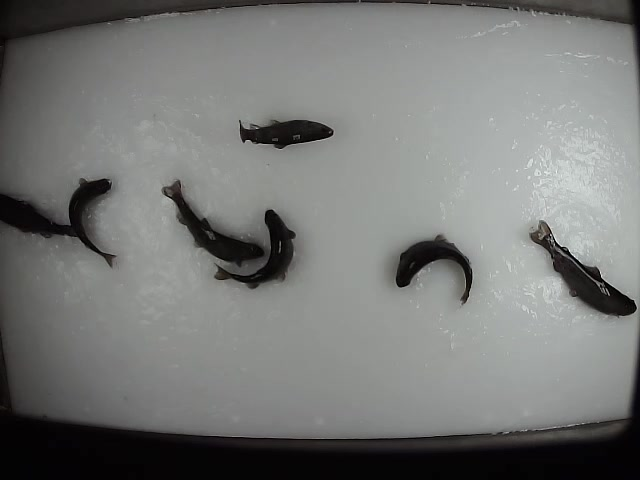fish: (529, 217, 639, 319), (159, 177, 267, 267), (213, 208, 298, 290), (393, 232, 474, 306), (69, 175, 119, 269), (236, 114, 336, 149)
